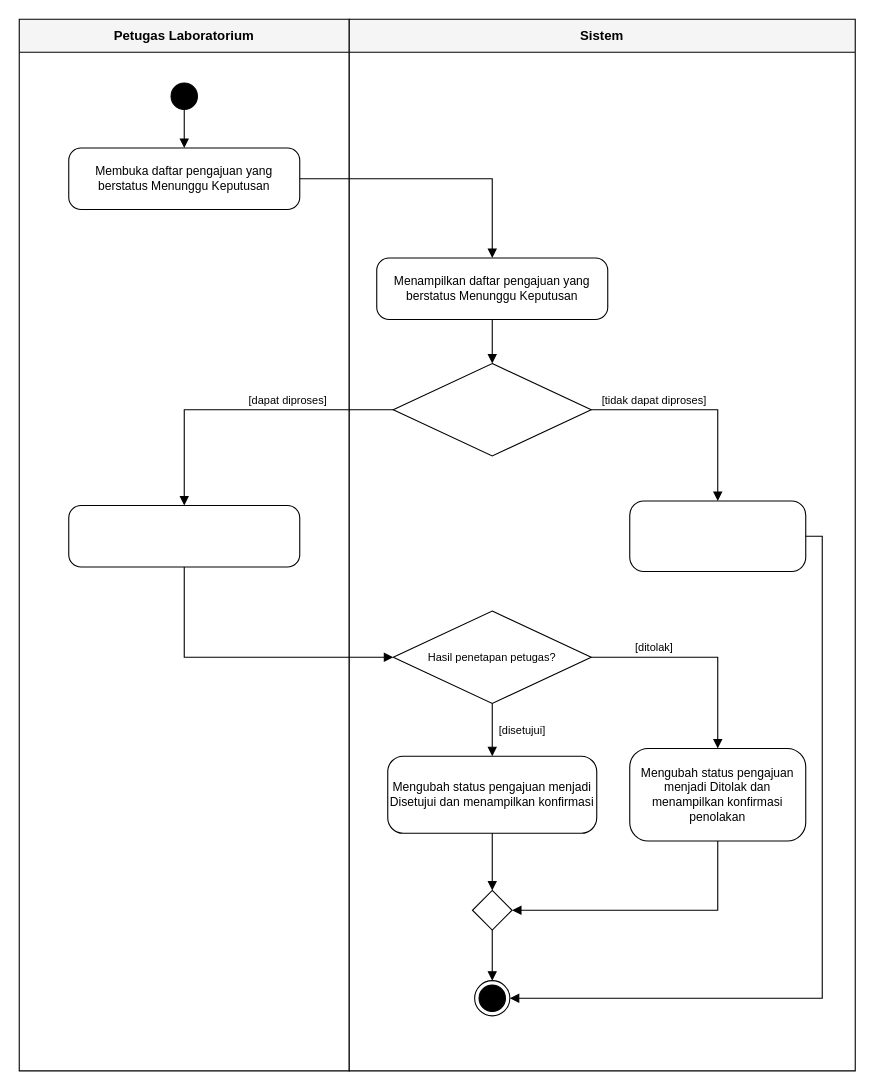
Image size: 875x1090. Some labels were removed from this diagram. Here are the shapes that lost their labels. From the top down, the box of each, then its label:
(392, 362, 591, 456): Pengajuan dapat diproses?
(68, 504, 300, 567): Memilih pengajuan dan menetapkan persetujuan atau penolakan
(629, 500, 806, 571): Menampilkan pesan pengajuan tidak dapat diproses
